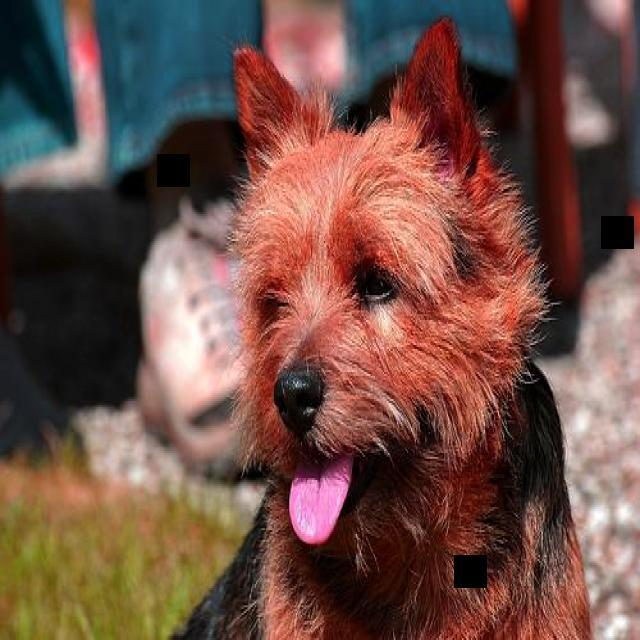adult_dog: (167, 12, 596, 640)
